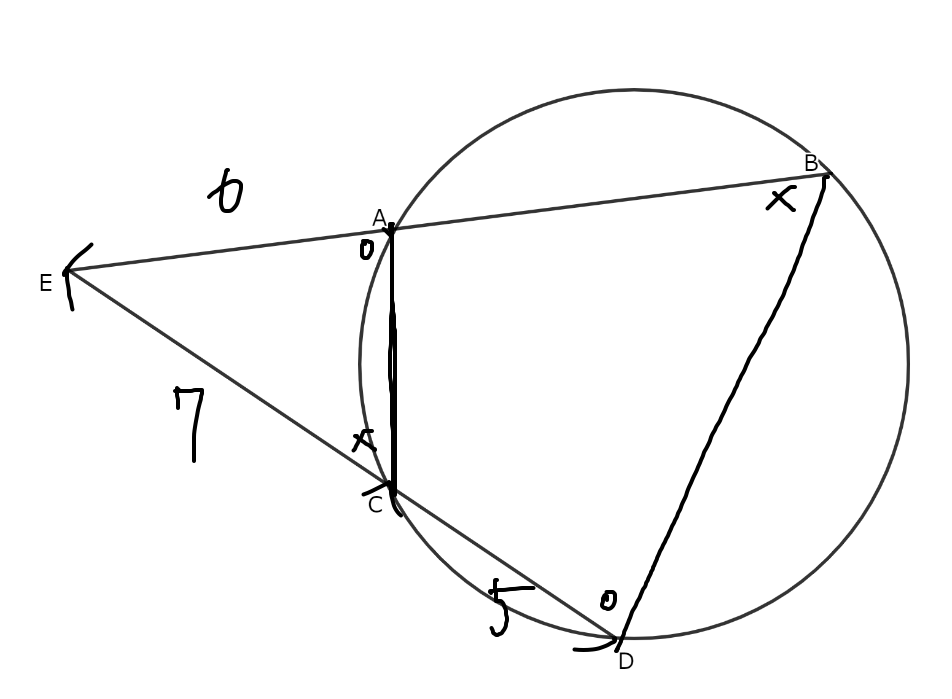Angle_o: (592, 580, 625, 620), (347, 227, 375, 264)
Angle_x: (760, 176, 809, 223), (336, 419, 385, 459)
